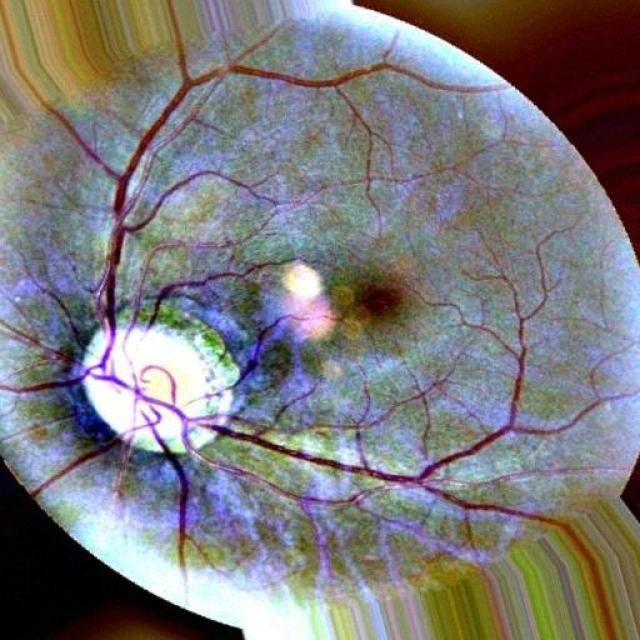Macula: (348, 269, 414, 337)
Nerves: (95, 323, 420, 492), (97, 67, 214, 313), (162, 456, 188, 563)
Optic Disk: (76, 316, 236, 451)
